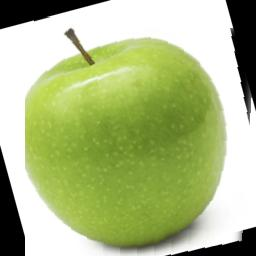Apple Fresh: (25, 16, 256, 256)
